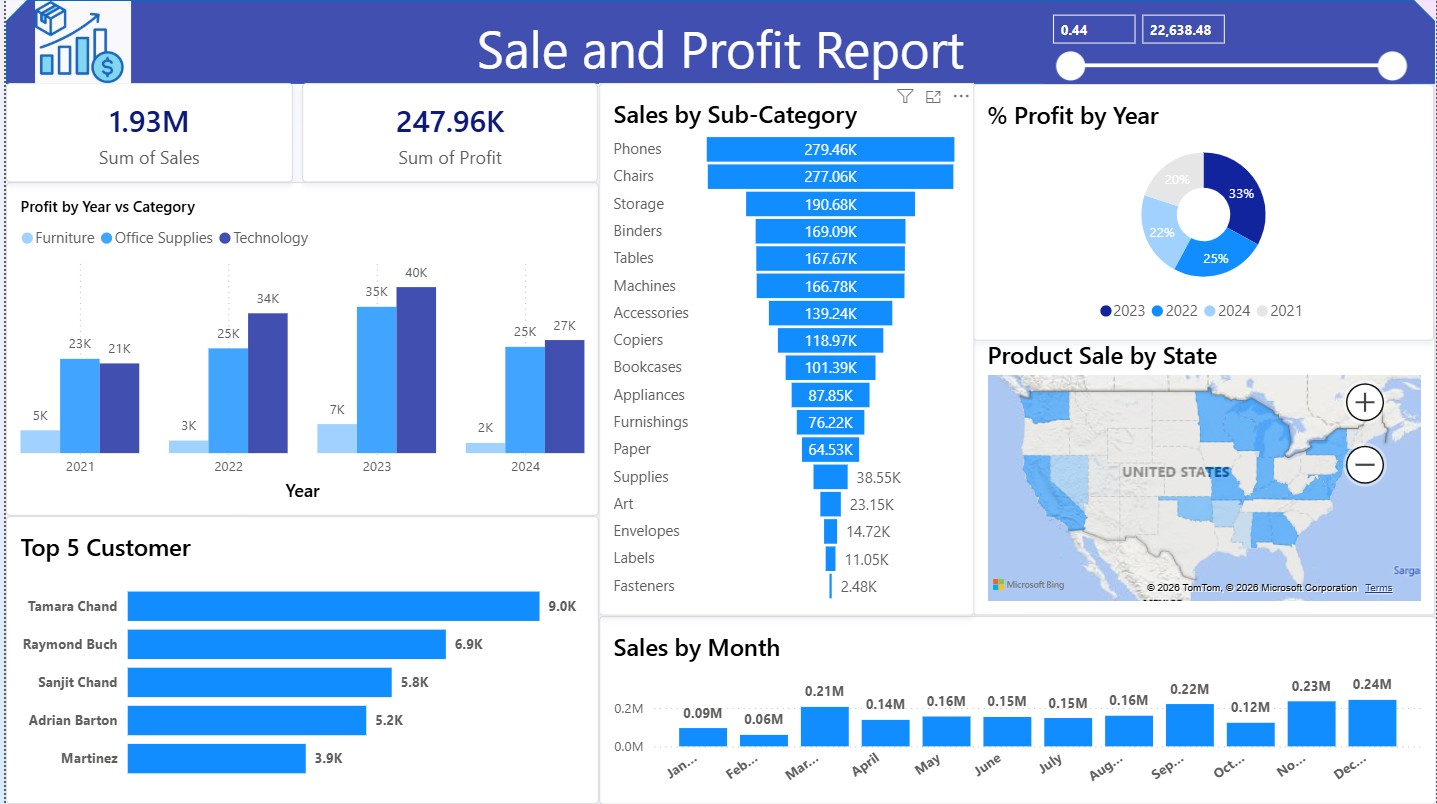

Layout of this report page (visuals, bound fields, positions):
{"tool":"powerbi","page":{"name":"Page 1","canvas":[1280,720],"ordinal":0},"visuals":[{"type":"shape","title":"Sales and Profit Report","box":[0,0,1279.7,75.2],"z":0},{"type":"filledMap","title":"Product Sale by State","fields":{"Category":["Table1.State"]},"box":[866,290.1,413.7,261.5],"z":1000},{"type":"clusteredColumnChart","title":"Sales by Month","fields":{"Y":["Table1.Sales"],"Category":["Table1.Order Date.Variation.Date Hierarchy.Month"]},"box":[530.7,551.5,749.6,168.8],"z":2000},{"type":"donutChart","title":"% Profit by Year","fields":{"Category":["Table1.Year"],"Y":["Table1.Profit"]},"box":[866,75.2,412.8,230.1],"z":3000},{"type":"clusteredColumnChart","title":"Profit by Year vs Category","fields":{"Y":["Table1.Profit"],"Category":["Table1.Year"],"Series":["Table1.Category"]},"box":[0,163.3,531,299.1],"z":4000},{"type":"clusteredBarChart","title":"Top 5 Customer","fields":{"Category":["Table1.Customer Name"],"Y":["Table1.Profit"]},"box":[0,462.2,530.7,258],"z":5000},{"type":"funnel","title":"Sales by Sub-Category","fields":{"Category":["Table1.Sub-Category"],"Y":["Table1.Sales"]},"box":[530.7,74.6,336.3,476.9],"z":6000},{"type":"card","fields":{"Values":["Table1.Sales"]},"box":[0,74.6,256.8,89.3],"z":7000},{"type":"card","fields":{"Values":["Table1.Profit"]},"box":[265.4,74.6,265.4,89.3],"z":8000},{"type":"image","box":[0,0.9,137.9,74.3],"z":9000},{"type":"slicer","fields":{"Values":["Table1.Sales"]},"box":[929.6,8.1,327.8,67.2],"z":10000}]}

Visuals, with their boxes in screenshot pixels (x1, y1, x2, y2), scaled from the page's 1280x720 canvas onto the 1437x804 screenshot:
"Sales and Profit Report" shape: x1=0, y1=0, x2=1436, y2=84
"Product Sale by State" filledMap: x1=972, y1=324, x2=1436, y2=616
"Sales by Month" clusteredColumnChart: x1=596, y1=616, x2=1436, y2=803
"% Profit by Year" donutChart: x1=972, y1=84, x2=1436, y2=341
"Profit by Year vs Category" clusteredColumnChart: x1=0, y1=182, x2=596, y2=516
"Top 5 Customer" clusteredBarChart: x1=0, y1=516, x2=596, y2=803
"Sales by Sub-Category" funnel: x1=596, y1=83, x2=973, y2=616
card - Table1.Sales: x1=0, y1=83, x2=288, y2=183
card - Table1.Profit: x1=298, y1=83, x2=596, y2=183
image: x1=0, y1=1, x2=155, y2=84
slicer - Table1.Sales: x1=1044, y1=9, x2=1412, y2=84
